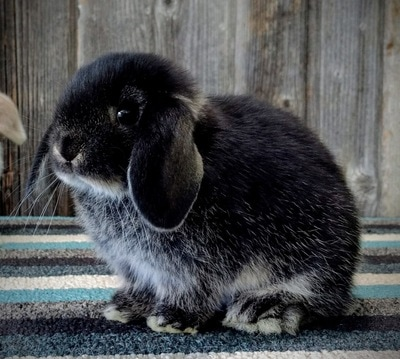bunny: (16, 43, 372, 345)
